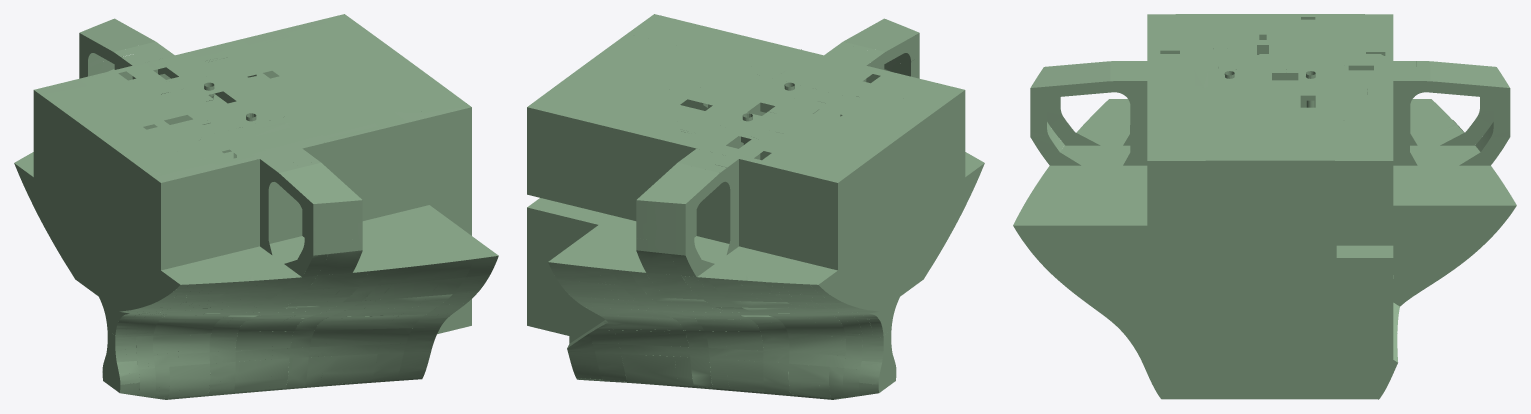
Rendered from ENGINE_ROOM.glb.
The picture shows the model from 3 angles, left to right: view 1: azimuth 30°, elevation 25°; view 2: azimuth 150°, elevation 25°; view 3: azimuth 270°, elevation 25°; orthographic projection. The views are drawn at different scales.
Parts seen in each view (by area): view 1: PL_LBHDxEPRS_022002-12.5_NVA_1993, PL_LBHDxEPRS_027002-12.5_NVA_1993, PL_OuterShellxEPRS_043001-17_NVA_1993, PL_UDxEPRS_034001-14.5_NVA_1993, PL_OuterShellxEPRS_037001-17_NVA_1993, PL_OuterShellxEPRS_048004-17_NVA_1993, PL_LBHDxEPRS_025002-12.5_NVA_1993, PL_2ndDeckxEPRS_013004-13_NVA_1993, PL_LBHDxEPRS_027004-12.5_NVA_1993, PL_LBHDxEPRS_019001-15.5_NVA_1993, PL_OuterShellxEPRS_053002-17_NVA_1993, PL_2ndDeckxEPRS_027002-13_NVA_1993 (+116 smaller); view 2: PL_LBHDxEPRP_016001-15.5_NVA_1993, PL_LBHDxEPRP_027002-12.5_NVA_1993, PL_OuterShellxEPRP_043001-17_NVA_1993, PL_LBHDxEPRP_022001-12.5_NVA_1993, PL_LBHDxEPRP_014001-13.5_NVA_1993, PL_OuterShellxEPRP_037001-17_NVA_1993, PL_UDxEPRS_034001-14.5_NVA_1993, PL_LBHDxEPRP_025002-12.5_NVA_1993, PL_LBHDxEPRP_027004-12.5_NVA_1993, PL_OuterShellxEPRP_048004-17_NVA_1993, PL_LBHDxEPRP_035002-18_NVA_1993, PL_UDxEPRS_030001-14.5_NVA_1993 (+123 smaller); view 3: PL_TransxFR50P_010001-12.5_NVA_1993, PL_TransxFR50S_010001-12.5_NVA_1993, PL_TransxFR50S_005002-17_NVA_1993, PL_TransxFR50P_005001-17_NVA_1993, PL_TransxFR45S_002002-18.5_NVA_1993, PL_TransxFR45P_002001-18.5_NVA_1993, PL_TransxFR50S_012002-12.5_NVA_1993, PL_TransxFR50P_012001-12.5_NVA_1993, PL_TransxFR45S_017001-14.5_NVA_1993, PL_TransxFR45S_016001-14.5_NVA_1993, PL_TransxFR50P_009002-12.5_NVA_1993, PL_TransxFR50S_009001-12.5_NVA_1993 (+96 smaller).
Boxes of the visible parts, x1=… form: PL_LBHDxEPRS_022002-12.5_NVA_1993: x1=332, y1=123, x2=407, y2=174; PL_LBHDxEPRS_027002-12.5_NVA_1993: x1=205, y1=159, x2=272, y2=206; PL_OuterShellxEPRS_043001-17_NVA_1993: x1=305, y1=354, x2=377, y2=386; PL_UDxEPRS_034001-14.5_NVA_1993: x1=381, y1=87, x2=470, y2=121; PL_OuterShellxEPRS_037001-17_NVA_1993: x1=234, y1=358, x2=289, y2=392; PL_OuterShellxEPRS_048004-17_NVA_1993: x1=310, y1=328, x2=412, y2=346; PL_LBHDxEPRS_025002-12.5_NVA_1993: x1=205, y1=217, x2=272, y2=259; PL_2ndDeckxEPRS_013004-13_NVA_1993: x1=366, y1=235, x2=461, y2=268; PL_LBHDxEPRS_027004-12.5_NVA_1993: x1=161, y1=172, x2=205, y2=217; PL_LBHDxEPRS_019001-15.5_NVA_1993: x1=429, y1=107, x2=471, y2=151; PL_OuterShellxEPRS_053002-17_NVA_1993: x1=378, y1=259, x2=474, y2=285; PL_2ndDeckxEPRS_027002-13_NVA_1993: x1=362, y1=220, x2=440, y2=253; PL_LBHDxEPRP_016001-15.5_NVA_1993: x1=527, y1=107, x2=590, y2=157; PL_LBHDxEPRP_027002-12.5_NVA_1993: x1=726, y1=159, x2=793, y2=206; PL_OuterShellxEPRP_043001-17_NVA_1993: x1=621, y1=354, x2=693, y2=386; PL_LBHDxEPRP_022001-12.5_NVA_1993: x1=614, y1=128, x2=666, y2=174; PL_LBHDxEPRP_014001-13.5_NVA_1993: x1=527, y1=168, x2=590, y2=209; PL_OuterShellxEPRP_037001-17_NVA_1993: x1=709, y1=358, x2=764, y2=392; PL_UDxEPRS_034001-14.5_NVA_1993: x1=627, y1=15, x2=716, y2=49; PL_LBHDxEPRP_025002-12.5_NVA_1993: x1=726, y1=217, x2=793, y2=259; PL_LBHDxEPRP_027004-12.5_NVA_1993: x1=793, y1=172, x2=837, y2=217; PL_OuterShellxEPRP_048004-17_NVA_1993: x1=589, y1=328, x2=688, y2=346; PL_LBHDxEPRP_035002-18_NVA_1993: x1=527, y1=289, x2=590, y2=326; PL_UDxEPRS_030001-14.5_NVA_1993: x1=603, y1=37, x2=686, y2=66; PL_TransxFR50P_010001-12.5_NVA_1993: x1=1270, y1=212, x2=1338, y2=245; PL_TransxFR50S_010001-12.5_NVA_1993: x1=1202, y1=212, x2=1270, y2=245; PL_TransxFR50S_005002-17_NVA_1993: x1=1199, y1=343, x2=1270, y2=372; PL_TransxFR50P_005001-17_NVA_1993: x1=1270, y1=343, x2=1340, y2=372; PL_TransxFR45S_002002-18.5_NVA_1993: x1=1199, y1=372, x2=1270, y2=399; PL_TransxFR45P_002001-18.5_NVA_1993: x1=1270, y1=372, x2=1340, y2=399; PL_TransxFR50S_012002-12.5_NVA_1993: x1=1199, y1=160, x2=1270, y2=186; PL_TransxFR50P_012001-12.5_NVA_1993: x1=1270, y1=160, x2=1340, y2=186; PL_TransxFR45S_017001-14.5_NVA_1993: x1=1095, y1=225, x2=1147, y2=260; PL_TransxFR45S_016001-14.5_NVA_1993: x1=1013, y1=225, x2=1076, y2=260; PL_TransxFR50P_009002-12.5_NVA_1993: x1=1340, y1=212, x2=1393, y2=245; PL_TransxFR50S_009001-12.5_NVA_1993: x1=1147, y1=212, x2=1199, y2=245.
Bounding box in the file's own units: 33.02 × 27.55 × 47.89.
